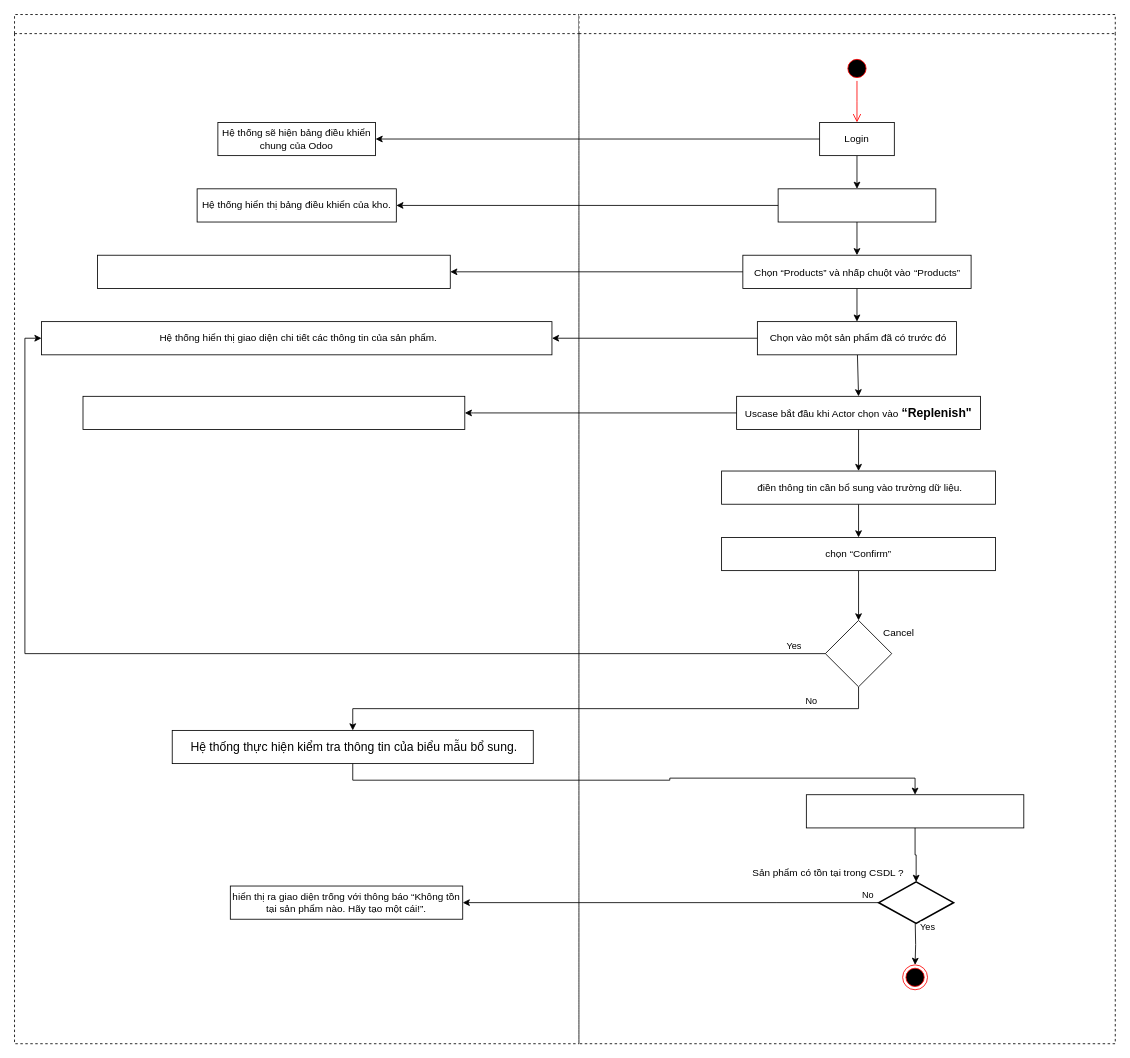
Image size: 1130x1058. Some labels were removed from this diagram. Here are the shapes that lost their labels. From the top down, the box of each, then its label:
(777, 188, 936, 222): Chọn “ Inventory”
(97, 254, 450, 288): Hệ thống hiển thị giao diện chứa tất cả sản phẩm có đã được tạo trước đó.
(82, 395, 465, 430): Hệ thống hiển một biểu mẫu mới để tái tồn kho
(14, 14, 579, 1044): System
(578, 14, 1115, 1044): Admin
(806, 794, 1024, 828): Hệ thống lưu vào CSDL
